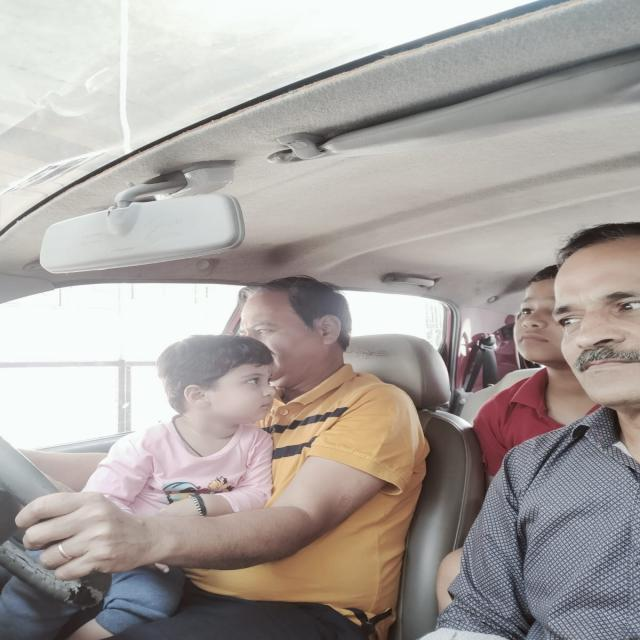child: (139, 323, 294, 449), (491, 270, 561, 372)
person: (533, 208, 640, 420), (184, 268, 362, 368)
